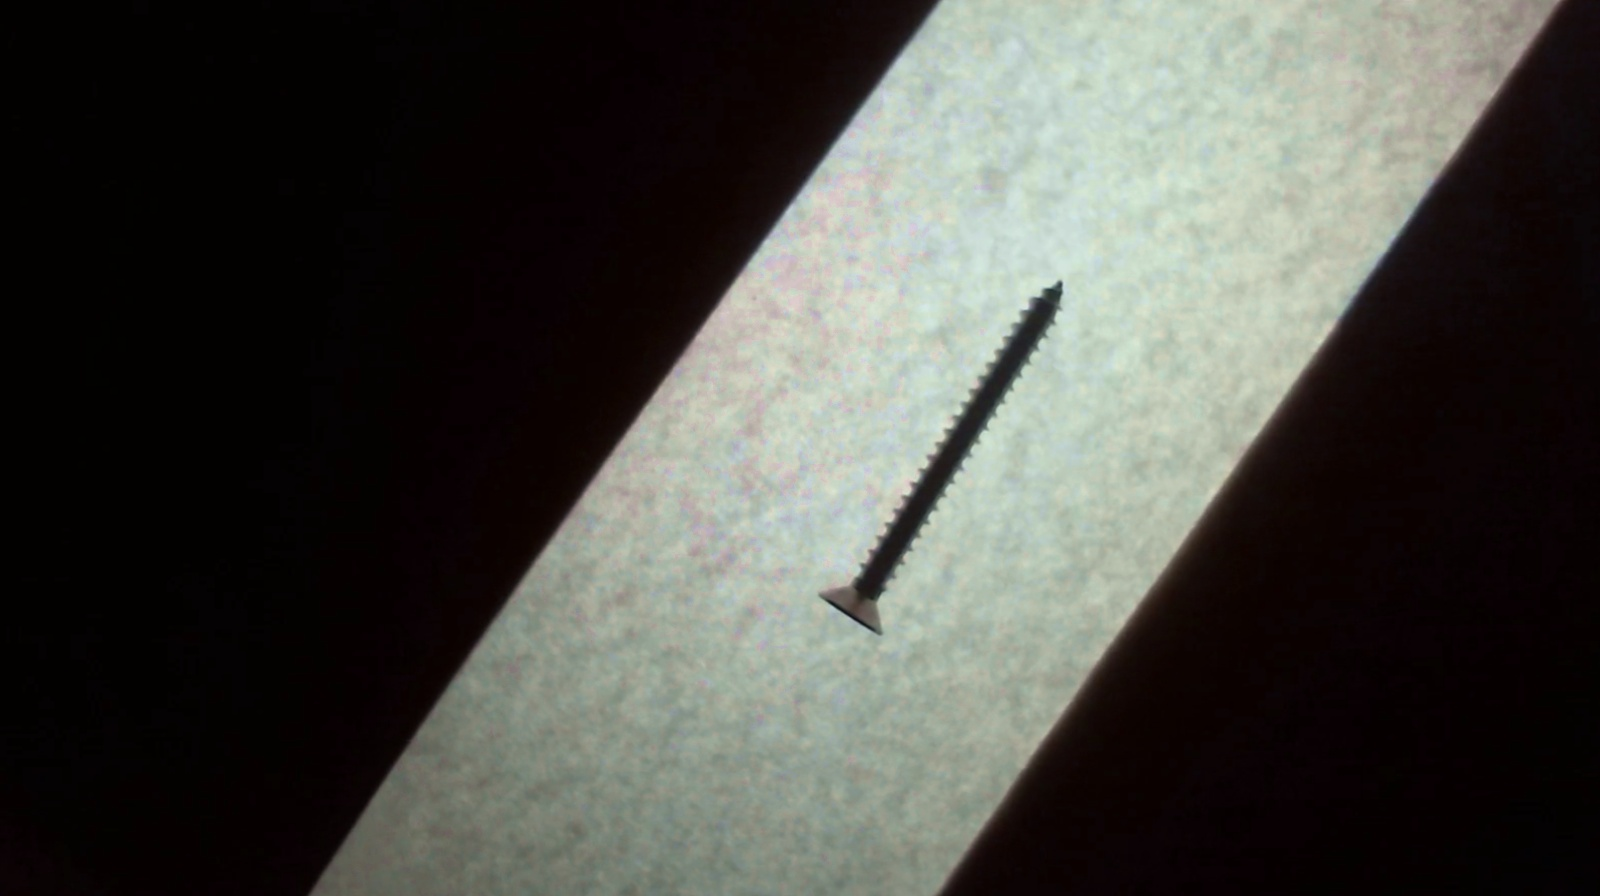S002: (784, 250, 1110, 660)
